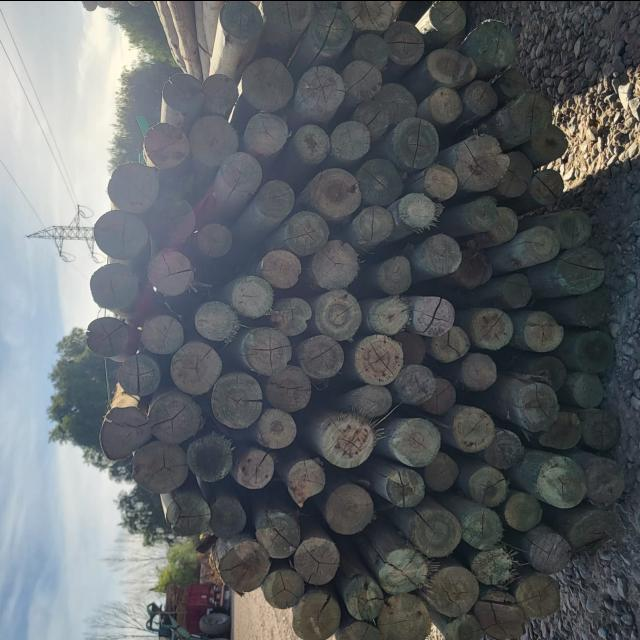package: (87, 0, 622, 640)
